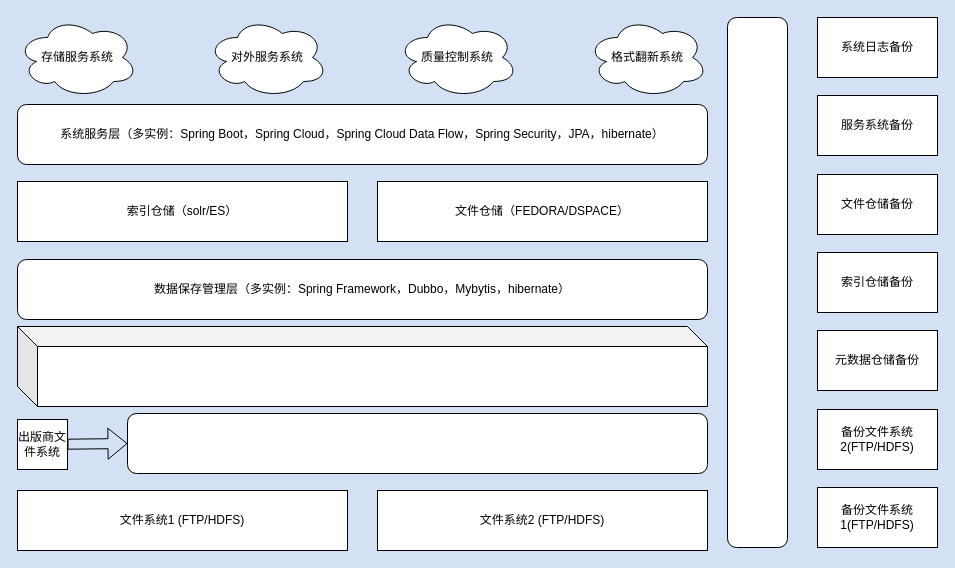
This 955x568 diagram has some shape labels left out. The shapes that lost their labels are listed below. From the top down, each one's centre as x and y in pixels, then its label:
At (x=757, y=282): "备份控制器（Spring Data，commons-net ）".
At (x=362, y=366): "元数据仓储（mysql，redis，es）".
At (x=417, y=443): "文件系统控制器 ( Spring Data，XML PARSER, unzip， commons-net )".
